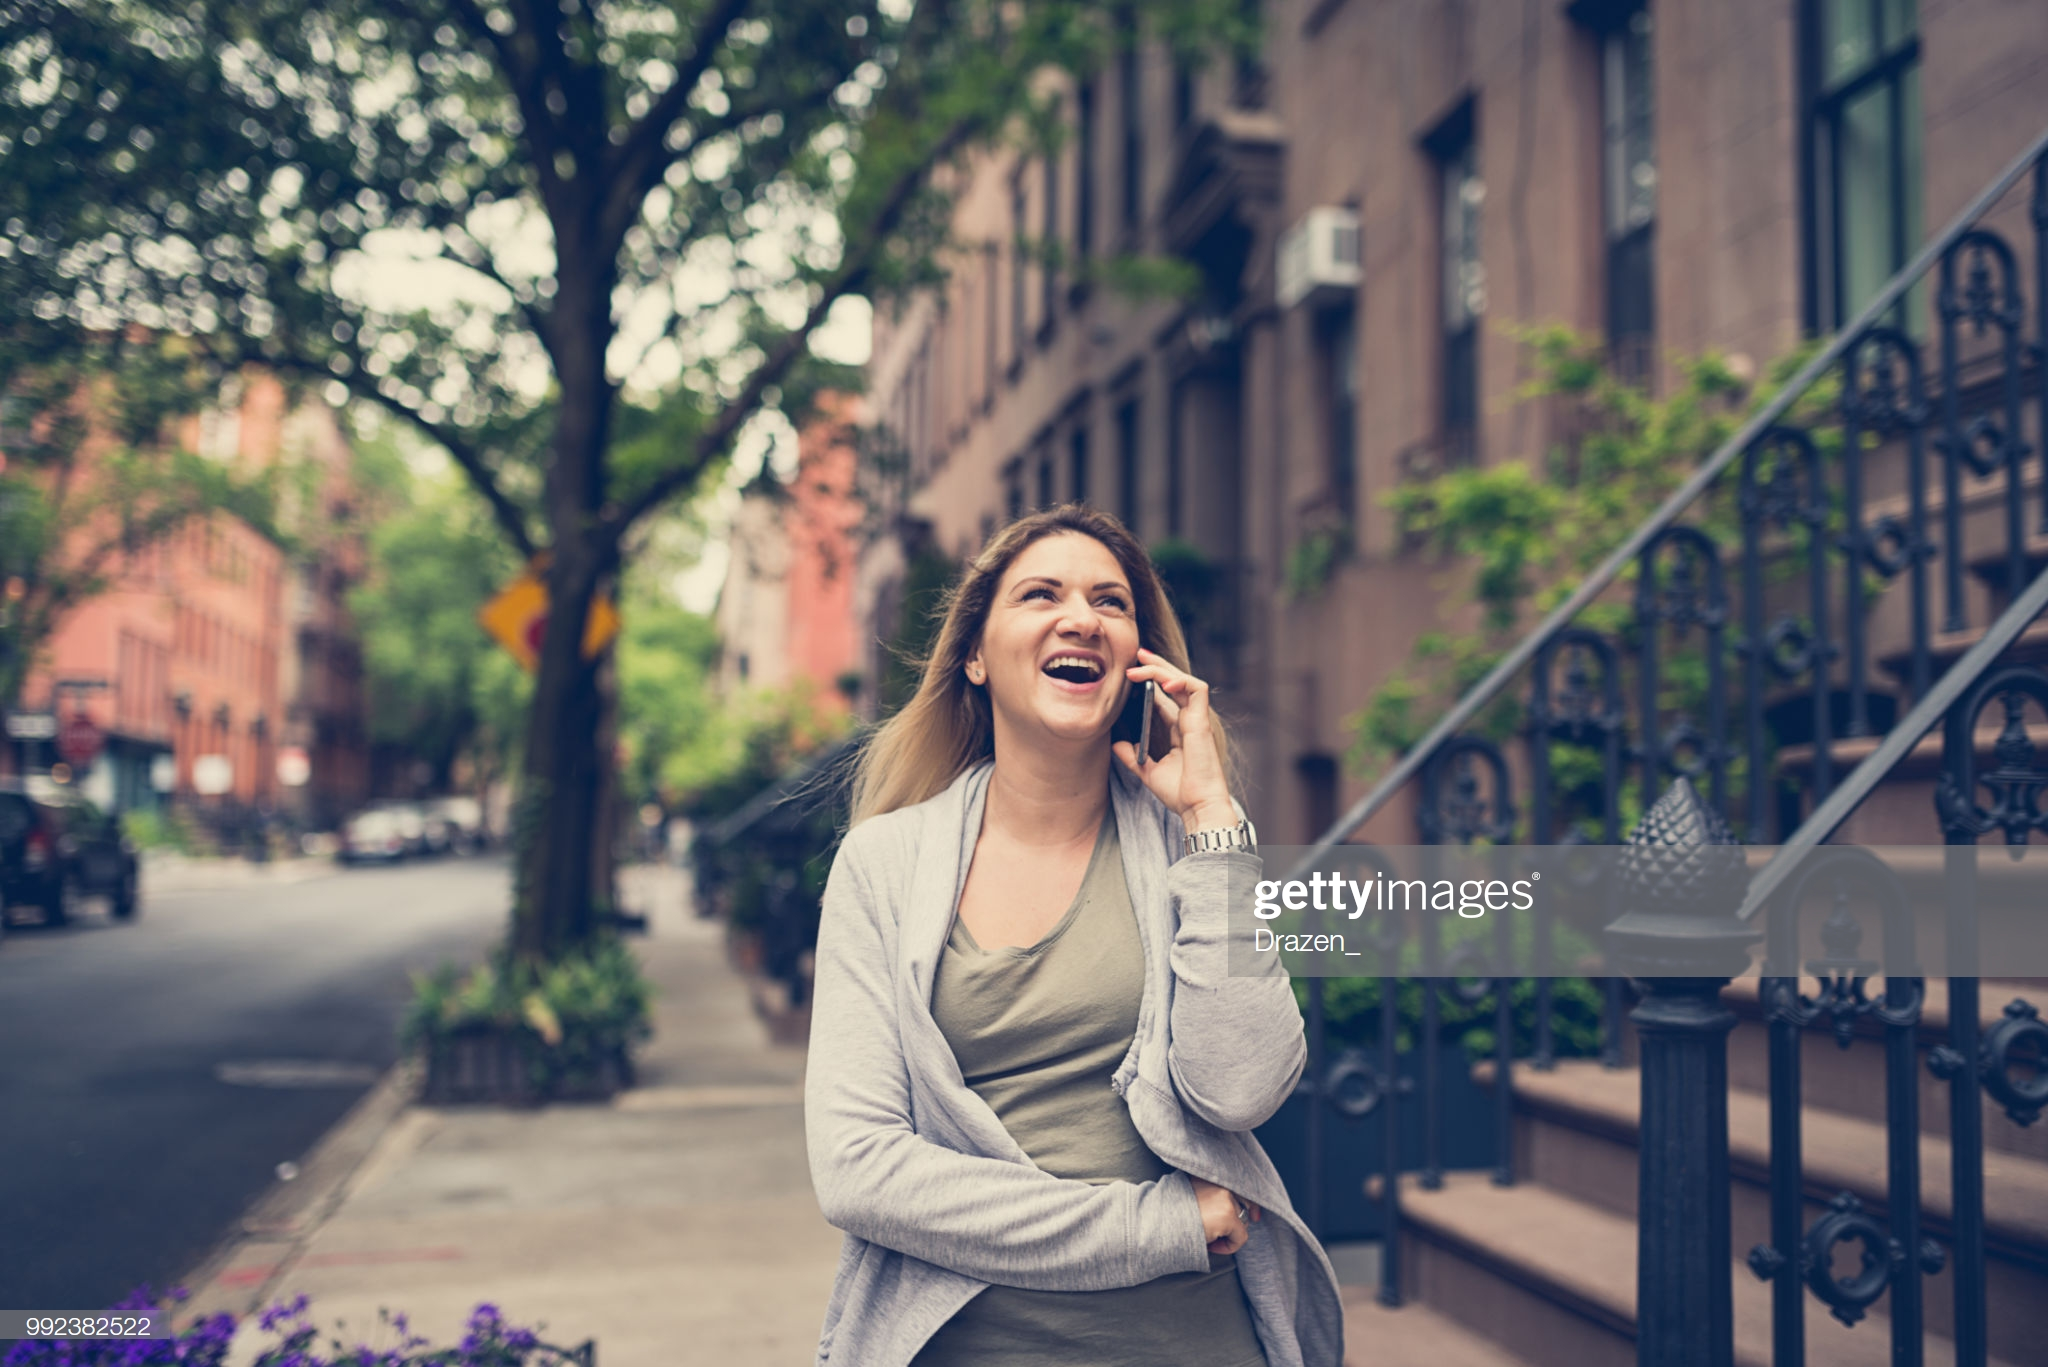phone: (1103, 615, 1205, 757)
talk: (1010, 564, 1238, 813)
